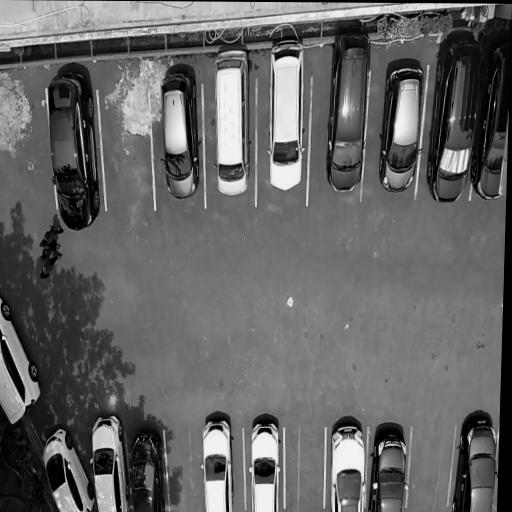Car: (426, 30, 487, 212), (41, 66, 101, 236), (325, 27, 375, 198), (264, 38, 313, 196), (472, 27, 511, 216), (210, 45, 254, 204), (0, 277, 44, 432), (156, 65, 203, 208), (378, 59, 426, 197), (37, 413, 96, 512), (453, 409, 500, 512), (88, 403, 129, 512), (198, 414, 237, 512), (125, 415, 164, 512), (329, 420, 369, 512), (370, 421, 410, 512), (247, 412, 282, 512)
Space Available: (105, 75, 149, 218), (412, 417, 450, 512), (286, 422, 324, 512), (169, 426, 200, 512)
